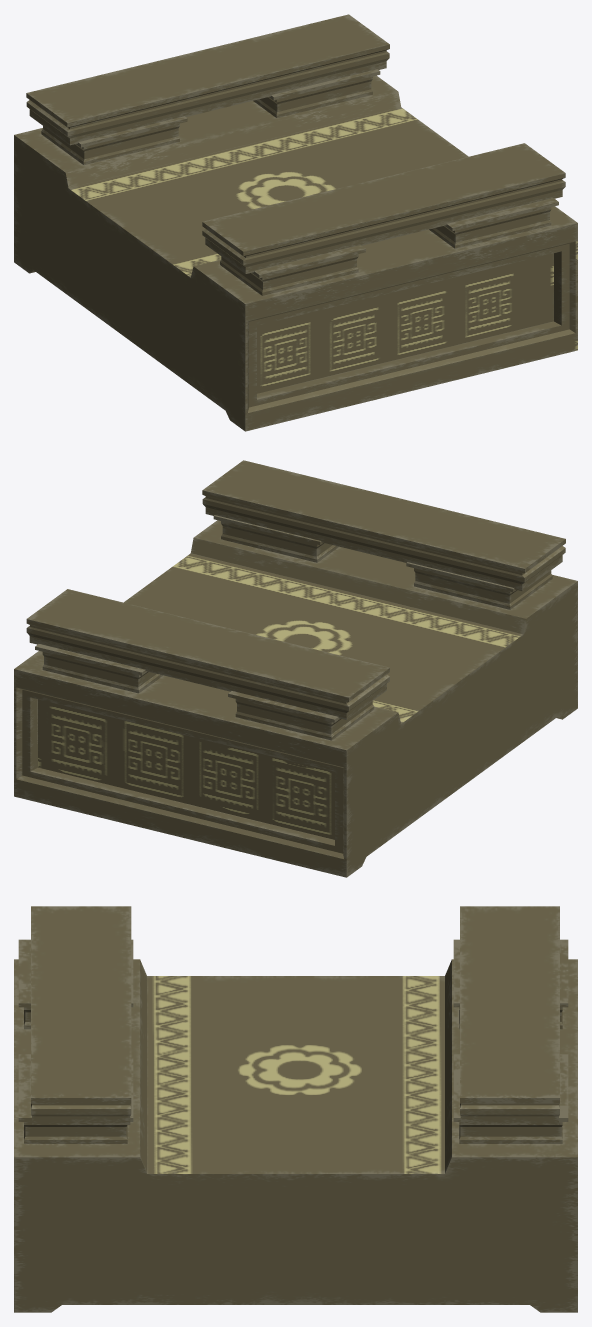
Rendered from BRIDGE B.fbx.
3 renders of one model, top to bottom at view 1: azimuth 30°, elevation 25°; view 2: azimuth 150°, elevation 25°; view 3: azimuth 270°, elevation 25°, orthographic. The views are drawn at different scales.
Parts seen in each view (by area): view 1: BRIDGE B; view 2: BRIDGE B; view 3: BRIDGE B.
Part boxes in pixels (<box>): BRIDGE B: <box>14,14,577,431</box>; BRIDGE B: <box>14,460,577,877</box>; BRIDGE B: <box>14,906,577,1312</box>.
Bounding box in the file's own units: 4.62 × 2.3 × 5.57.
